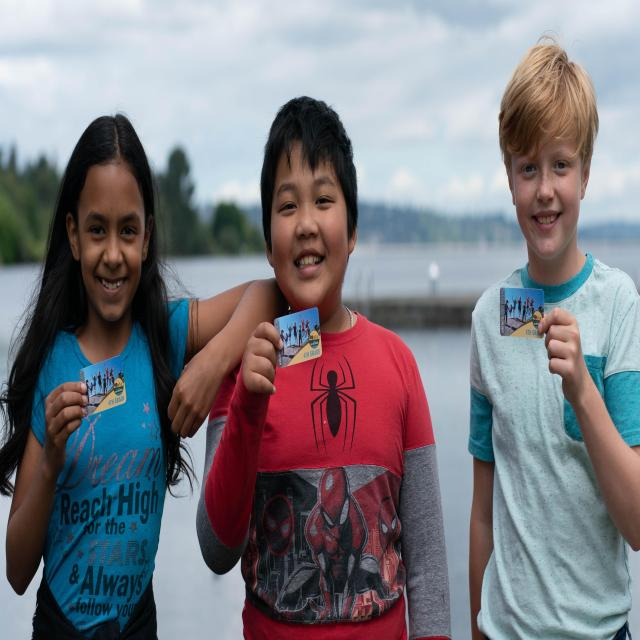child: (196, 94, 454, 640), (14, 112, 227, 634), (464, 37, 640, 640)
